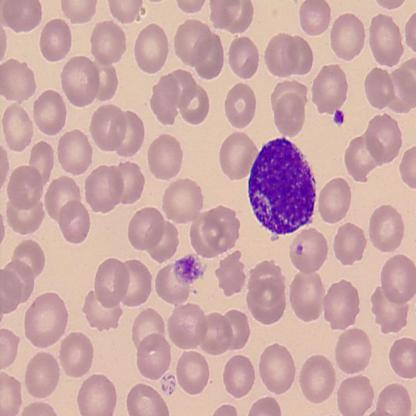Myelocyte: (249, 139, 318, 234)
